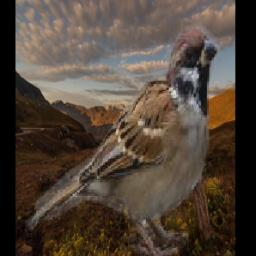Sparrow: (26, 17, 224, 256)
